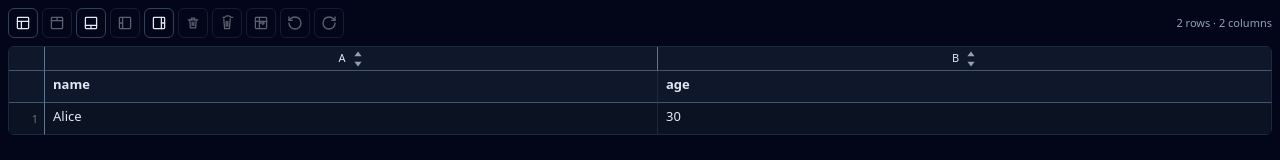
Scenario: CsvPreview (custom grid) › Delete columns toolbar button removes the selected column
The width and height of the screenshot is (1280, 160).
Press the mouse on the column heading "A" at (352, 59), box [45, 47, 658, 71]
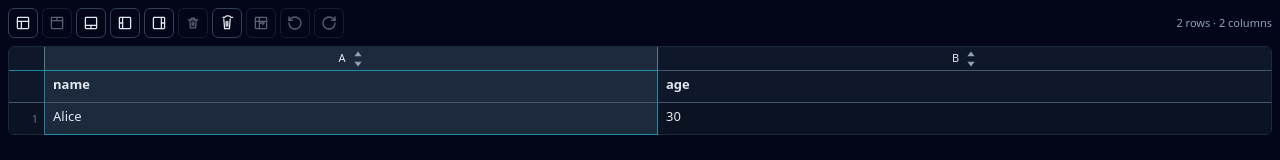
Click the button named "Delete columns". click: (227, 23)
box: [212, 8, 242, 38]
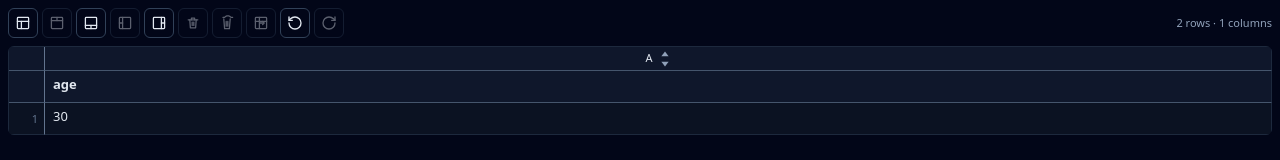
Check: the text "2 rows · 1 columns" is shown, box [1176, 16, 1272, 30]
